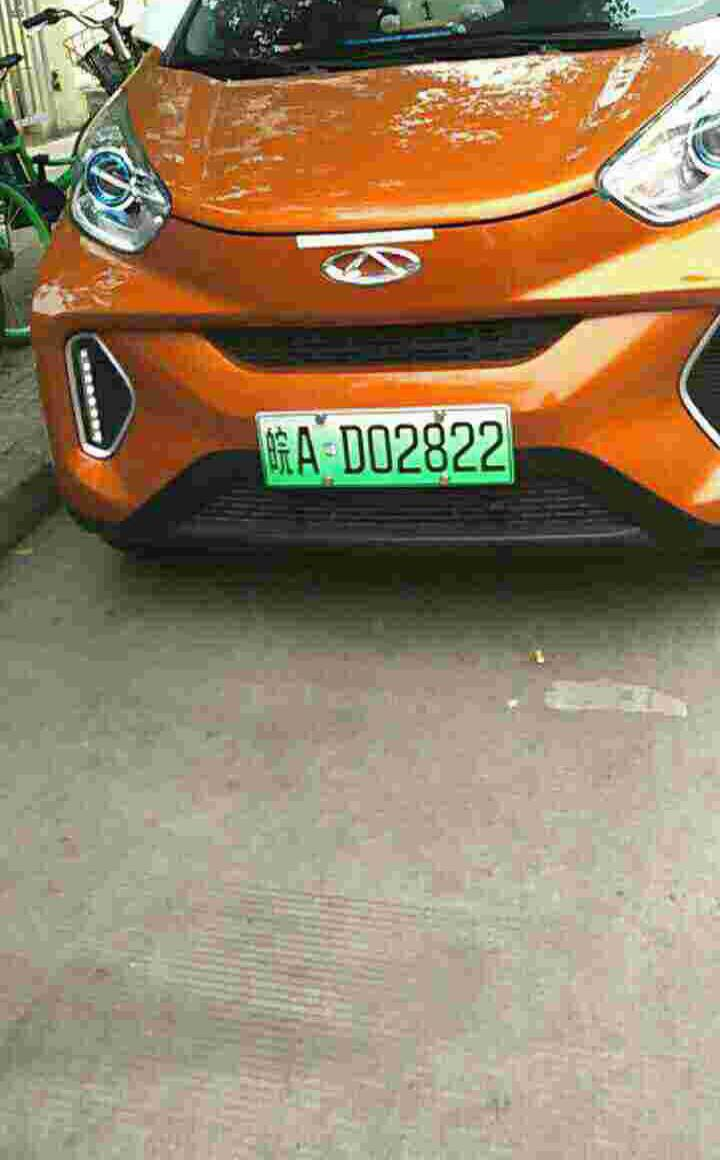car_green: (257, 412, 515, 486)
